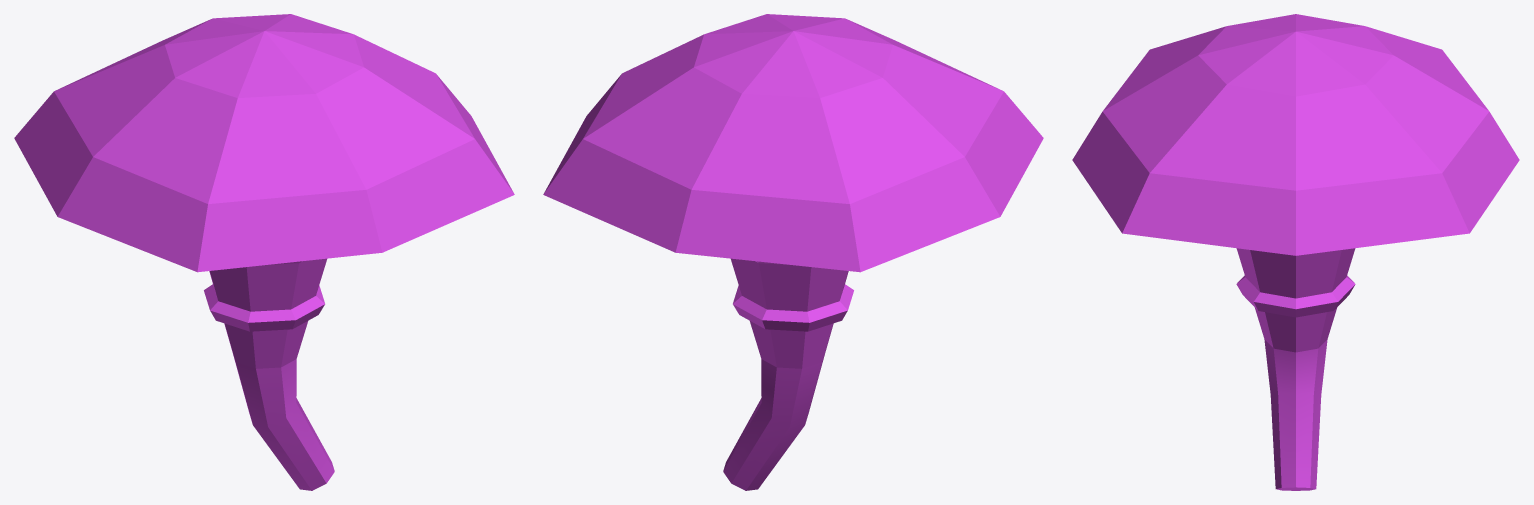
File: mushroom_01.fbx
3 renders of one model, left to right at view 1: azimuth 30°, elevation 25°; view 2: azimuth 150°, elevation 25°; view 3: azimuth 270°, elevation 25°, orthographic. The views are drawn at different scales.
Parts seen in each view (by area): view 1: pSphere1; view 2: pSphere1; view 3: pSphere1.
Part boxes in pixels (x1=…): pSphere1: x1=14, y1=14, x2=514, y2=490; pSphere1: x1=543, y1=14, x2=1043, y2=490; pSphere1: x1=1072, y1=14, x2=1519, y2=490.
Size of the model in its own units: 3.52 by 3.79 by 3.47.
